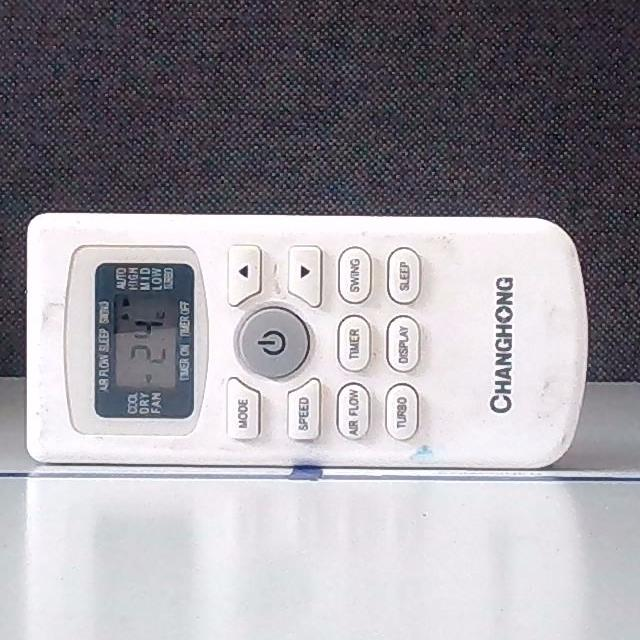remote: (27, 210, 592, 473)
